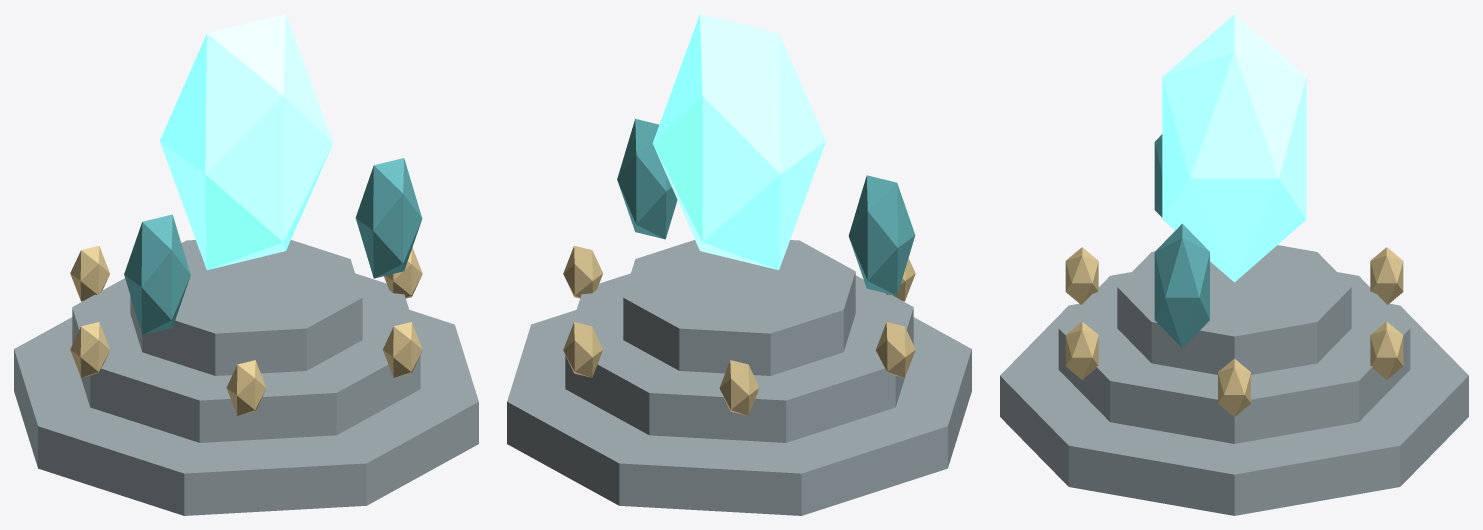
The model's file is sanctuaire_des_marees.glb.
3 renders of one model, left to right at view 1: azimuth 30°, elevation 25°; view 2: azimuth 150°, elevation 25°; view 3: azimuth 270°, elevation 25°, orthographic. The views are drawn at different scales.
Parts seen in each view (by area): view 1: static_stone, crystal_glow, static_teal, static_brass; view 2: static_stone, crystal_glow, static_teal, static_brass; view 3: static_stone, crystal_glow, static_brass, static_teal.
Part boxes in pixels (left/top/right/bottom): static_stone: left=14, top=240, right=478, bottom=515; crystal_glow: left=159, top=14, right=333, bottom=270; static_teal: left=124, top=158, right=422, bottom=334; static_brass: left=70, top=246, right=422, bottom=415; static_stone: left=507, top=240, right=971, bottom=515; crystal_glow: left=652, top=14, right=826, bottom=270; static_teal: left=617, top=119, right=915, bottom=295; static_brass: left=563, top=245, right=915, bottom=415; static_stone: left=1000, top=245, right=1468, bottom=515; crystal_glow: left=1162, top=14, right=1306, bottom=282; static_brass: left=1065, top=247, right=1403, bottom=416; static_teal: left=1154, top=134, right=1209, bottom=348.
Bounding box in the file's own units: 3.6 × 3.25 × 3.6.
